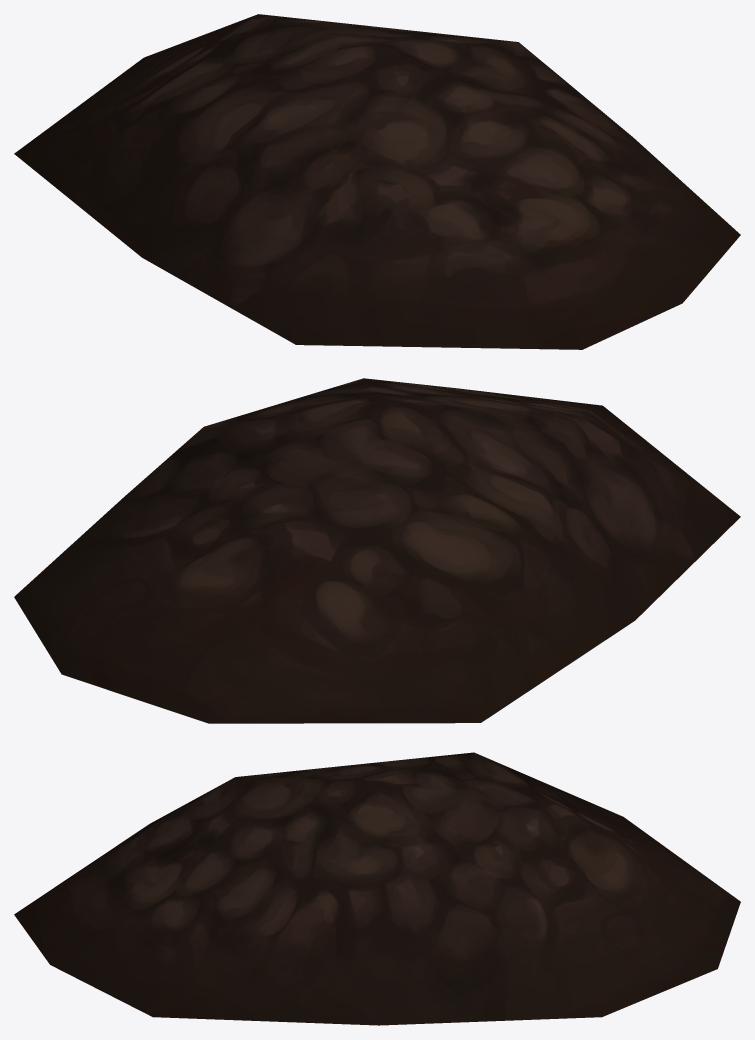
The model's file is SM_PROP_dirtpile_03.fbx.
The picture shows the model from 3 angles, top to bottom: view 1: azimuth 30°, elevation 25°; view 2: azimuth 150°, elevation 25°; view 3: azimuth 270°, elevation 25°; orthographic projection. The views are drawn at different scales.
Visible parts, largest first — view 1: SM_PROP_dirtpile_03; view 2: SM_PROP_dirtpile_03; view 3: SM_PROP_dirtpile_03.
Part boxes in pixels (x1,y1,x2,y2): SM_PROP_dirtpile_03: (14,14,740,349); SM_PROP_dirtpile_03: (14,378,740,723); SM_PROP_dirtpile_03: (14,752,740,1025).
Size of the model in its own units: 274 by 80.82 by 395.
